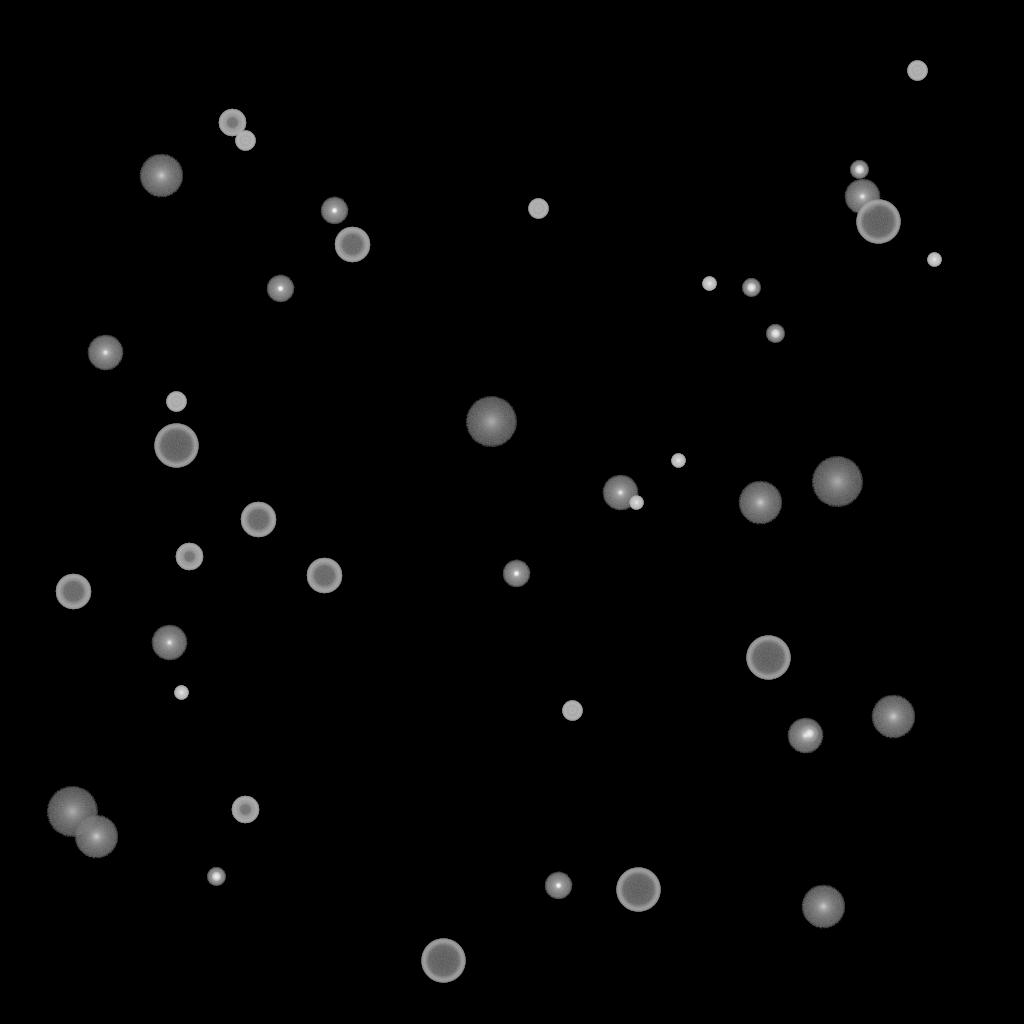depth:-10: (544, 872, 572, 900), (320, 197, 348, 225), (502, 560, 530, 588), (266, 275, 294, 303)
depth:-20: (742, 279, 760, 297), (207, 868, 225, 886), (850, 161, 868, 179), (800, 725, 818, 743), (766, 325, 784, 343)
depth:-30: (671, 454, 685, 468), (629, 496, 643, 510), (927, 253, 941, 267), (702, 277, 716, 291), (174, 686, 188, 700)
depth:-40: (166, 392, 186, 412), (528, 199, 548, 219), (562, 701, 582, 721), (235, 131, 255, 151), (907, 61, 927, 81)
depth:-50: (175, 543, 203, 571), (231, 796, 259, 824), (218, 109, 246, 137)
depth:-60: (306, 558, 342, 594), (334, 227, 370, 263), (240, 502, 276, 538), (55, 574, 91, 610)
depth:-70: (421, 939, 465, 983), (746, 636, 790, 680), (616, 868, 660, 912), (856, 200, 900, 244), (154, 424, 198, 468)
depth:0: (787, 718, 823, 754), (844, 179, 880, 215), (602, 475, 638, 511), (87, 335, 123, 371), (151, 625, 187, 661)
depth:10: (871, 695, 915, 739), (74, 815, 118, 859), (738, 481, 782, 525), (139, 154, 183, 198), (801, 885, 845, 929)
depth:20: (465, 397, 517, 447), (46, 787, 98, 837), (811, 457, 863, 507)
